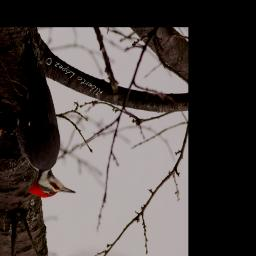Woodpecker: (12, 38, 79, 198)
